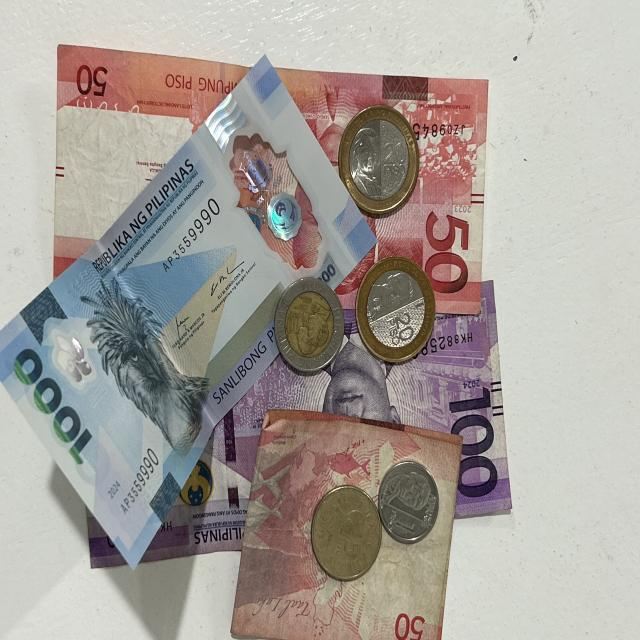10_Old_Front: (274, 273, 343, 371)
1_New_Front: (386, 469, 428, 541)
20_New_Front: (381, 126, 411, 182), (386, 312, 420, 349)
5_Old_Front: (321, 497, 376, 574)
clear_window: (204, 77, 340, 301)
security_thread: (222, 404, 242, 523)
see_through_mark: (74, 92, 144, 130)
serial_number: (157, 197, 227, 275), (110, 441, 165, 516), (412, 327, 480, 364)
